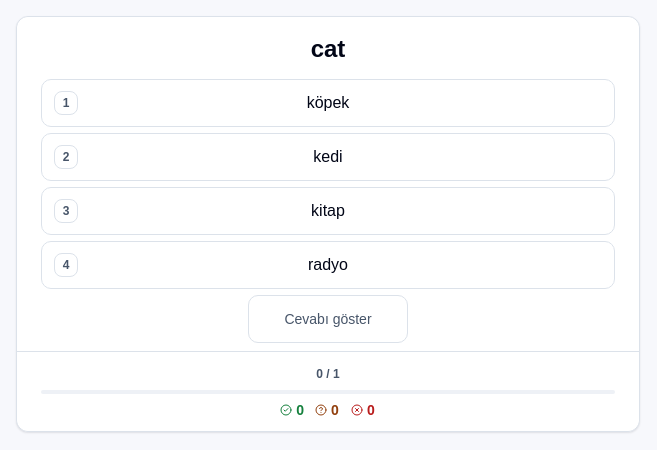
it: StudySessionPage › retries the same answer when persistence fails
The image size is (657, 450).
Click the button "1 köpek": [328, 103] box [41,79,615,127]
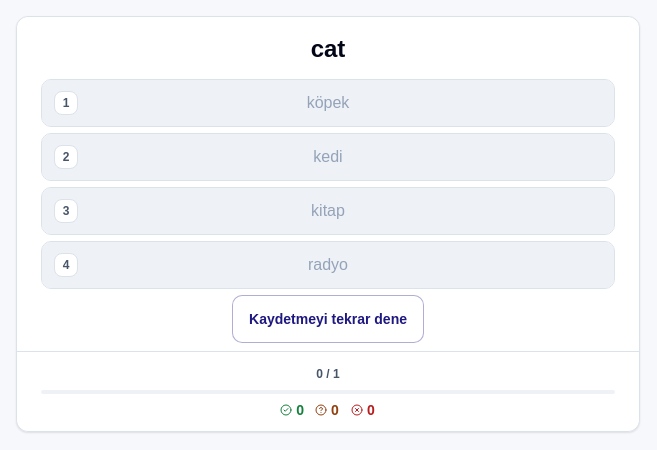
Click the button "Kaydetmeyi tekrar dene": [328, 319] box [232,295,424,343]
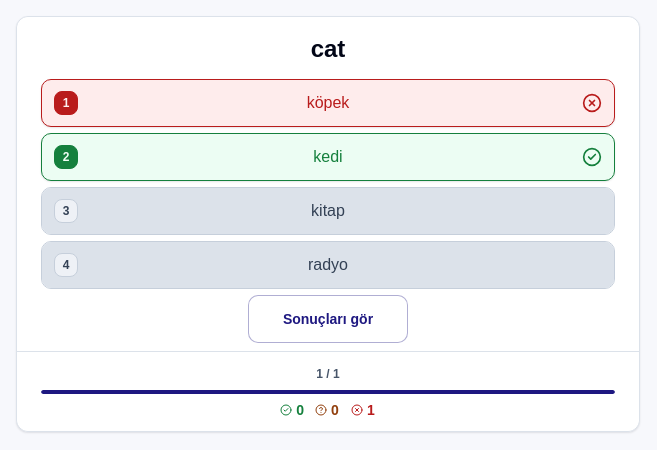
Expected: the button "Sonuçları gör" is shown, [248,295,408,343]
